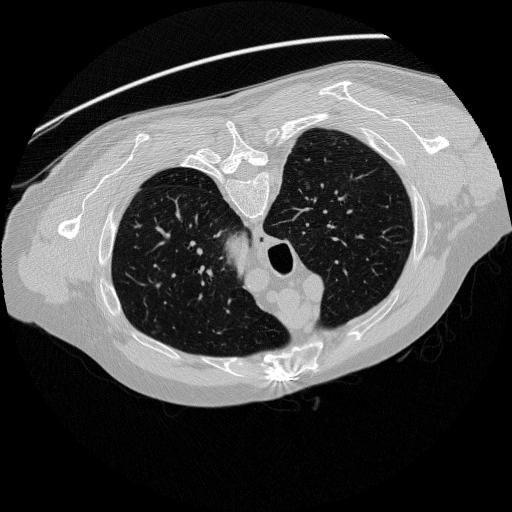nodule: (303, 180, 315, 192)
